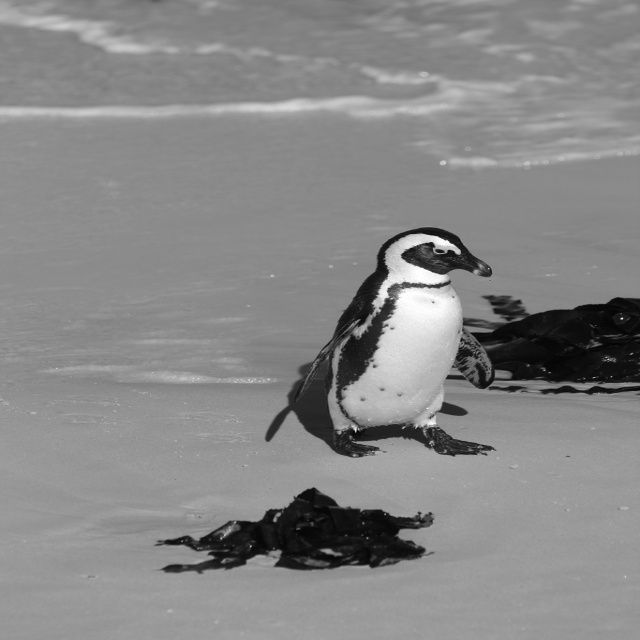Penguin: (264, 227, 497, 460)
